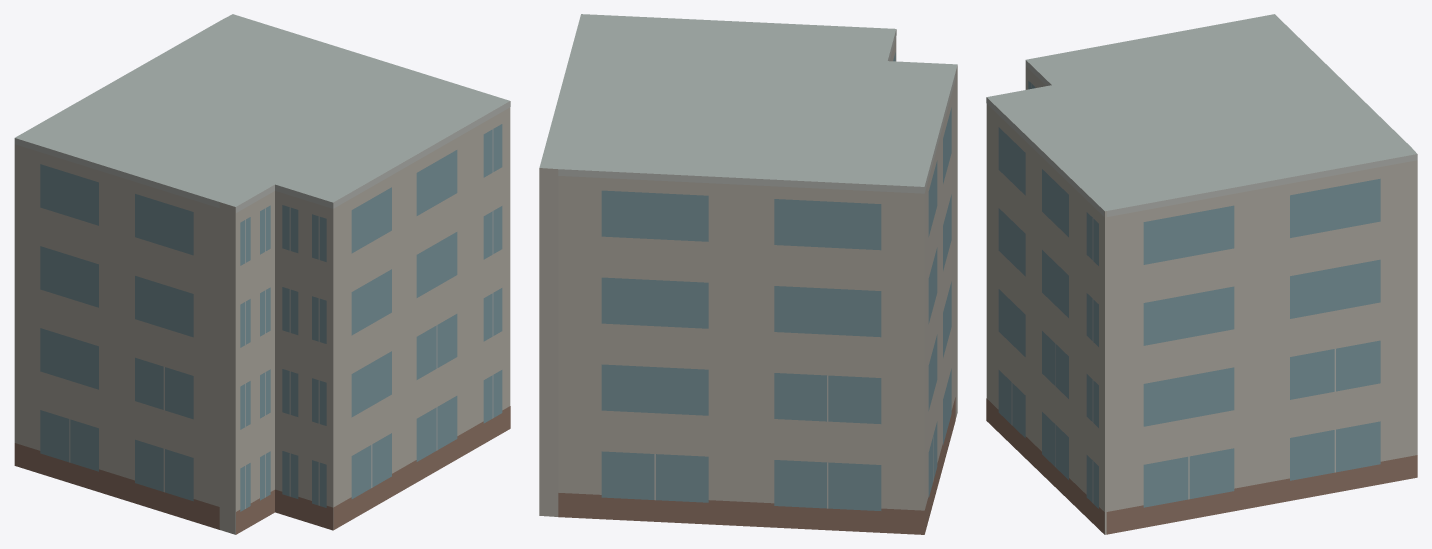
Rendered from survey-upis-32474192.glb.
3 renders of one model, left to right at view 1: azimuth 30°, elevation 25°; view 2: azimuth 150°, elevation 25°; view 3: azimuth 270°, elevation 25°, orthographic. The views are drawn at different scales.
Parts seen in each view (by area): view 1: survey-upis-32474192.tmp; view 2: survey-upis-32474192.tmp; view 3: survey-upis-32474192.tmp.
Part boxes in pixels (x1,y1,x2,y2): survey-upis-32474192.tmp: (14,14,510,534); survey-upis-32474192.tmp: (539,14,957,534); survey-upis-32474192.tmp: (986,14,1417,534).
Bounding box in the file's own units: 16.66 × 12.73 × 15.38.
